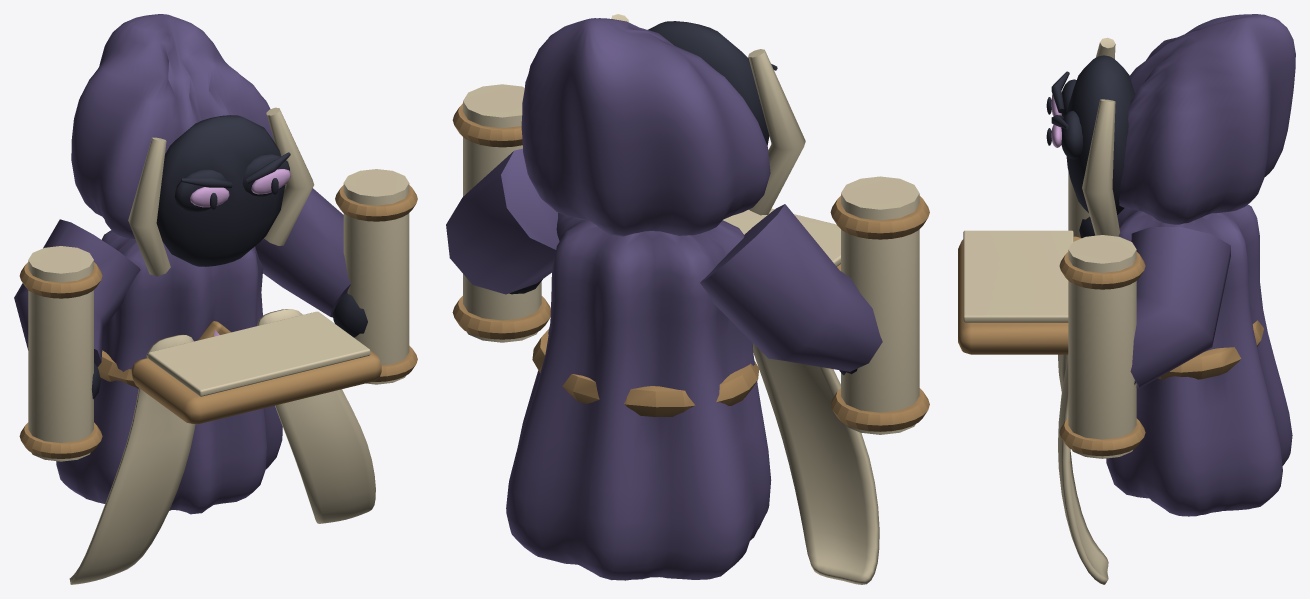
File: miniboss_9.glb
3 renders of one model, left to right at view 1: azimuth 30°, elevation 25°; view 2: azimuth 150°, elevation 25°; view 3: azimuth 270°, elevation 25°, orthographic. The views are drawn at different scales.
Visible parts, largest first — view 1: Email_Art_tete_0, Email_BestiaireSculpte, Email_Art_bras_d_0, Email_Art_bras_g_0, Email_Art_livre_g_0, Email_Art_pan_g_0, Email_Art_pan_d_0; view 2: Email_BestiaireSculpte, Email_Art_tete_0, Email_Art_bras_g_0, Email_Art_bras_d_0, Email_Art_pan_g_0, Email_Art_livre_g_0; view 3: Email_Art_tete_0, Email_BestiaireSculpte, Email_Art_bras_d_0, Email_Art_livre_g_0, Email_Art_pan_d_0, Email_Art_bras_g_0.
Part boxes in pixels (box(x1,y1,x2,y2)): Email_Art_tete_0: box(71, 14, 314, 276); Email_BestiaireSculpte: box(56, 230, 282, 514); Email_Art_bras_d_0: box(255, 169, 417, 384); Email_Art_bras_g_0: box(14, 219, 140, 461); Email_Art_livre_g_0: box(131, 311, 381, 424); Email_Art_pan_g_0: box(69, 334, 195, 584); Email_Art_pan_d_0: box(257, 309, 375, 523); Email_BestiaireSculpte: box(506, 212, 771, 580); Email_Art_tete_0: box(521, 14, 805, 236); Email_Art_bras_g_0: box(700, 176, 929, 434); Email_Art_bras_d_0: box(446, 84, 559, 342); Email_Art_pan_g_0: box(752, 343, 879, 584); Email_Art_livre_g_0: box(723, 208, 840, 270); Email_Art_tete_0: box(1046, 14, 1295, 236); Email_BestiaireSculpte: box(1106, 204, 1292, 516); Email_Art_bras_d_0: box(1059, 227, 1230, 458); Email_Art_livre_g_0: box(958, 230, 1081, 354); Email_Art_pan_d_0: box(1058, 359, 1108, 584); Email_Art_bras_g_0: box(1068, 171, 1095, 237).
Bounding box in the file's own units: 0.884 × 1.05 × 0.6432.
